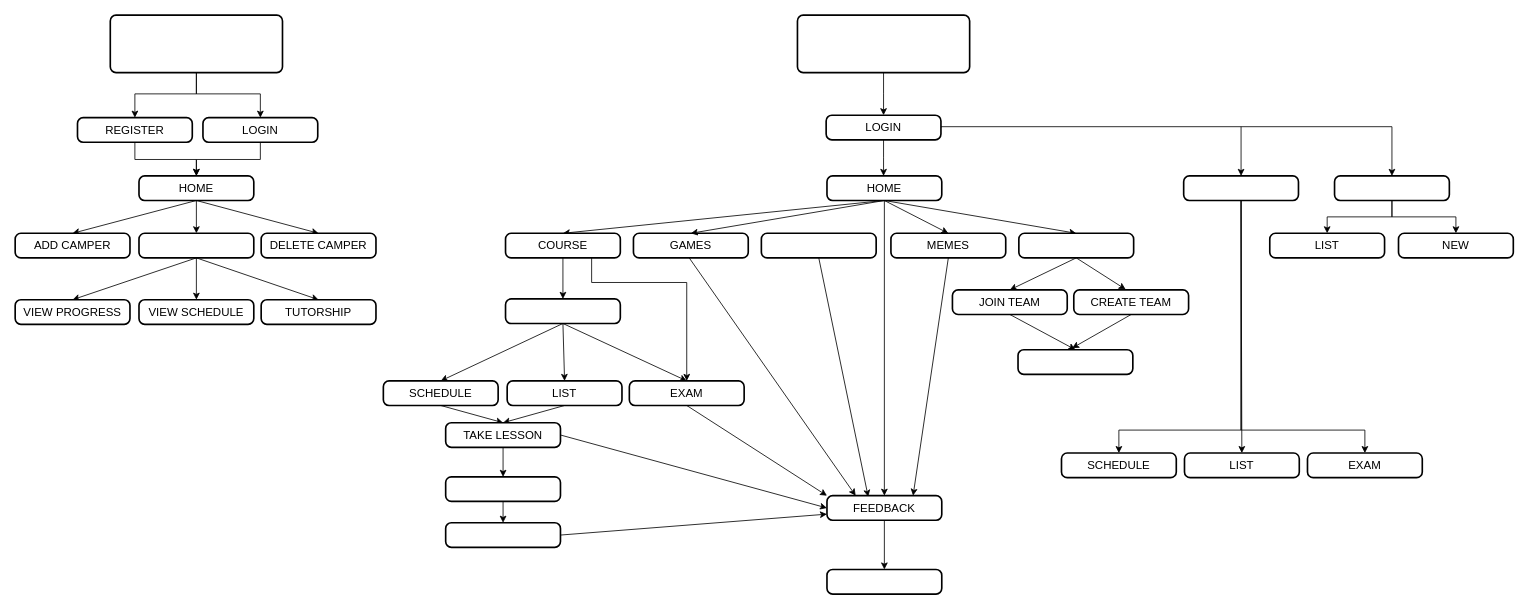
This 1528x608 diagram has some shape labels left out. The shapes that lost their labels are listed below. From the top down, each one's centre as x and y in pixels, then its label:
At [196,43]: "TUTOR".
At [883,43]: "CAMPER".
At [1240,188]: "PROFILE".
At [1391,188]: "CHAT".
At [196,245]: "VIEW CAMPERS".
At [818,245]: "COMICS".
At [1076,245]: "TEAMS".
At [562,311]: "LESSONS".
At [1075,361]: "PROFILE TEAM".
At [502,489]: "BETA GAME".
At [502,535]: "RATTING".
At [884,581]: "SCORE".
